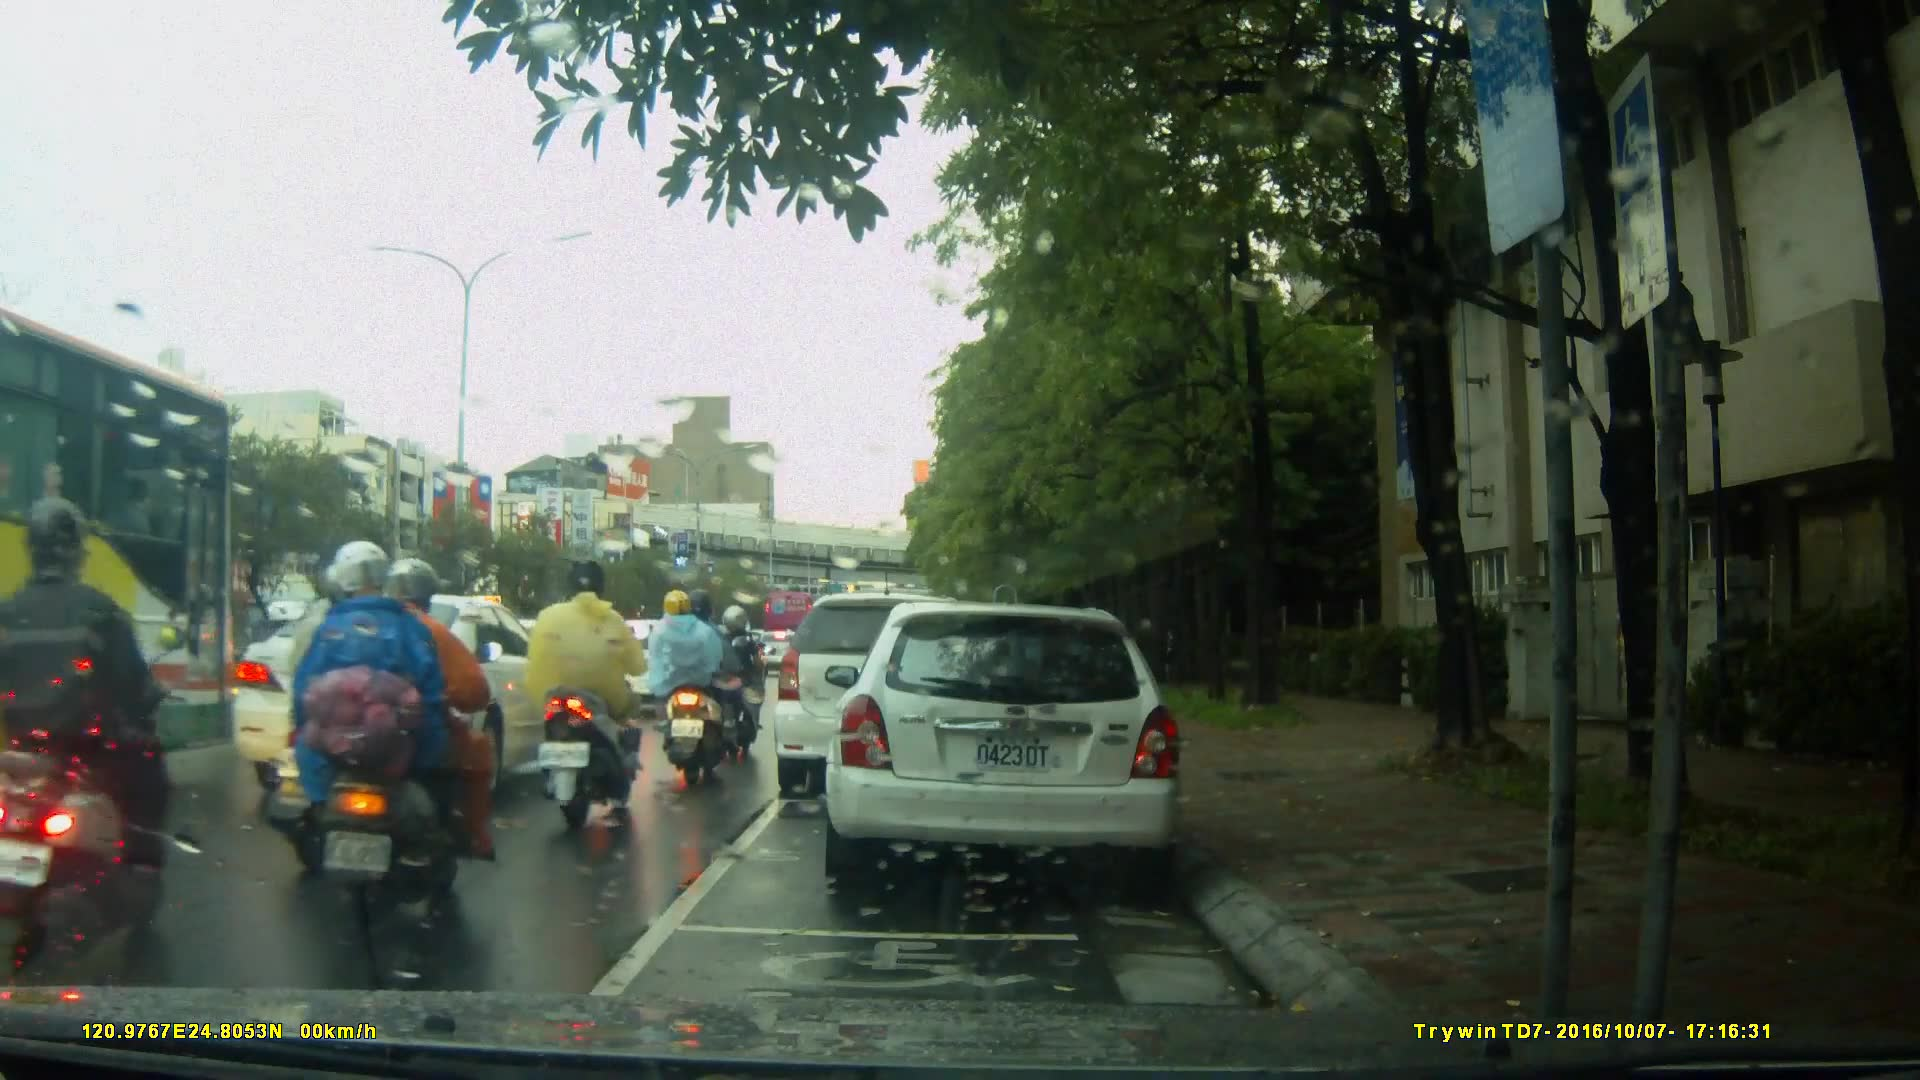rider: (4, 496, 194, 955), (286, 545, 507, 915), (508, 556, 648, 821), (655, 580, 729, 764), (696, 607, 764, 763)
vehicle: (1, 301, 250, 823), (835, 594, 1194, 898), (229, 591, 584, 813), (776, 590, 1026, 784)
